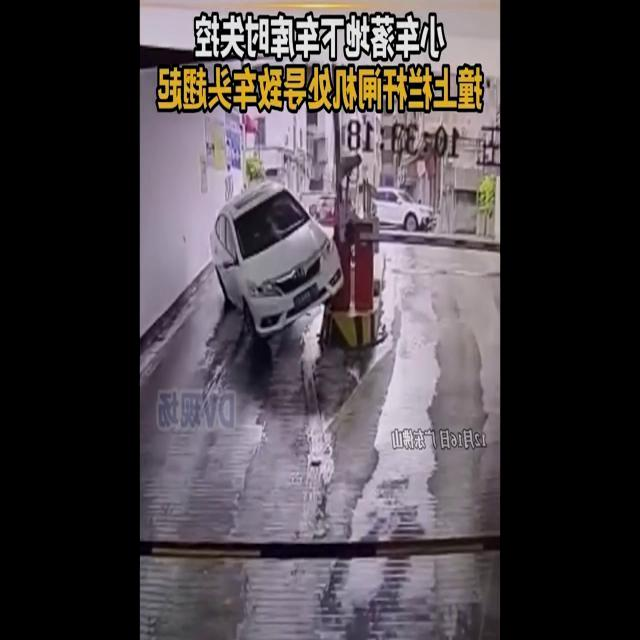accident: (212, 180, 350, 340)
